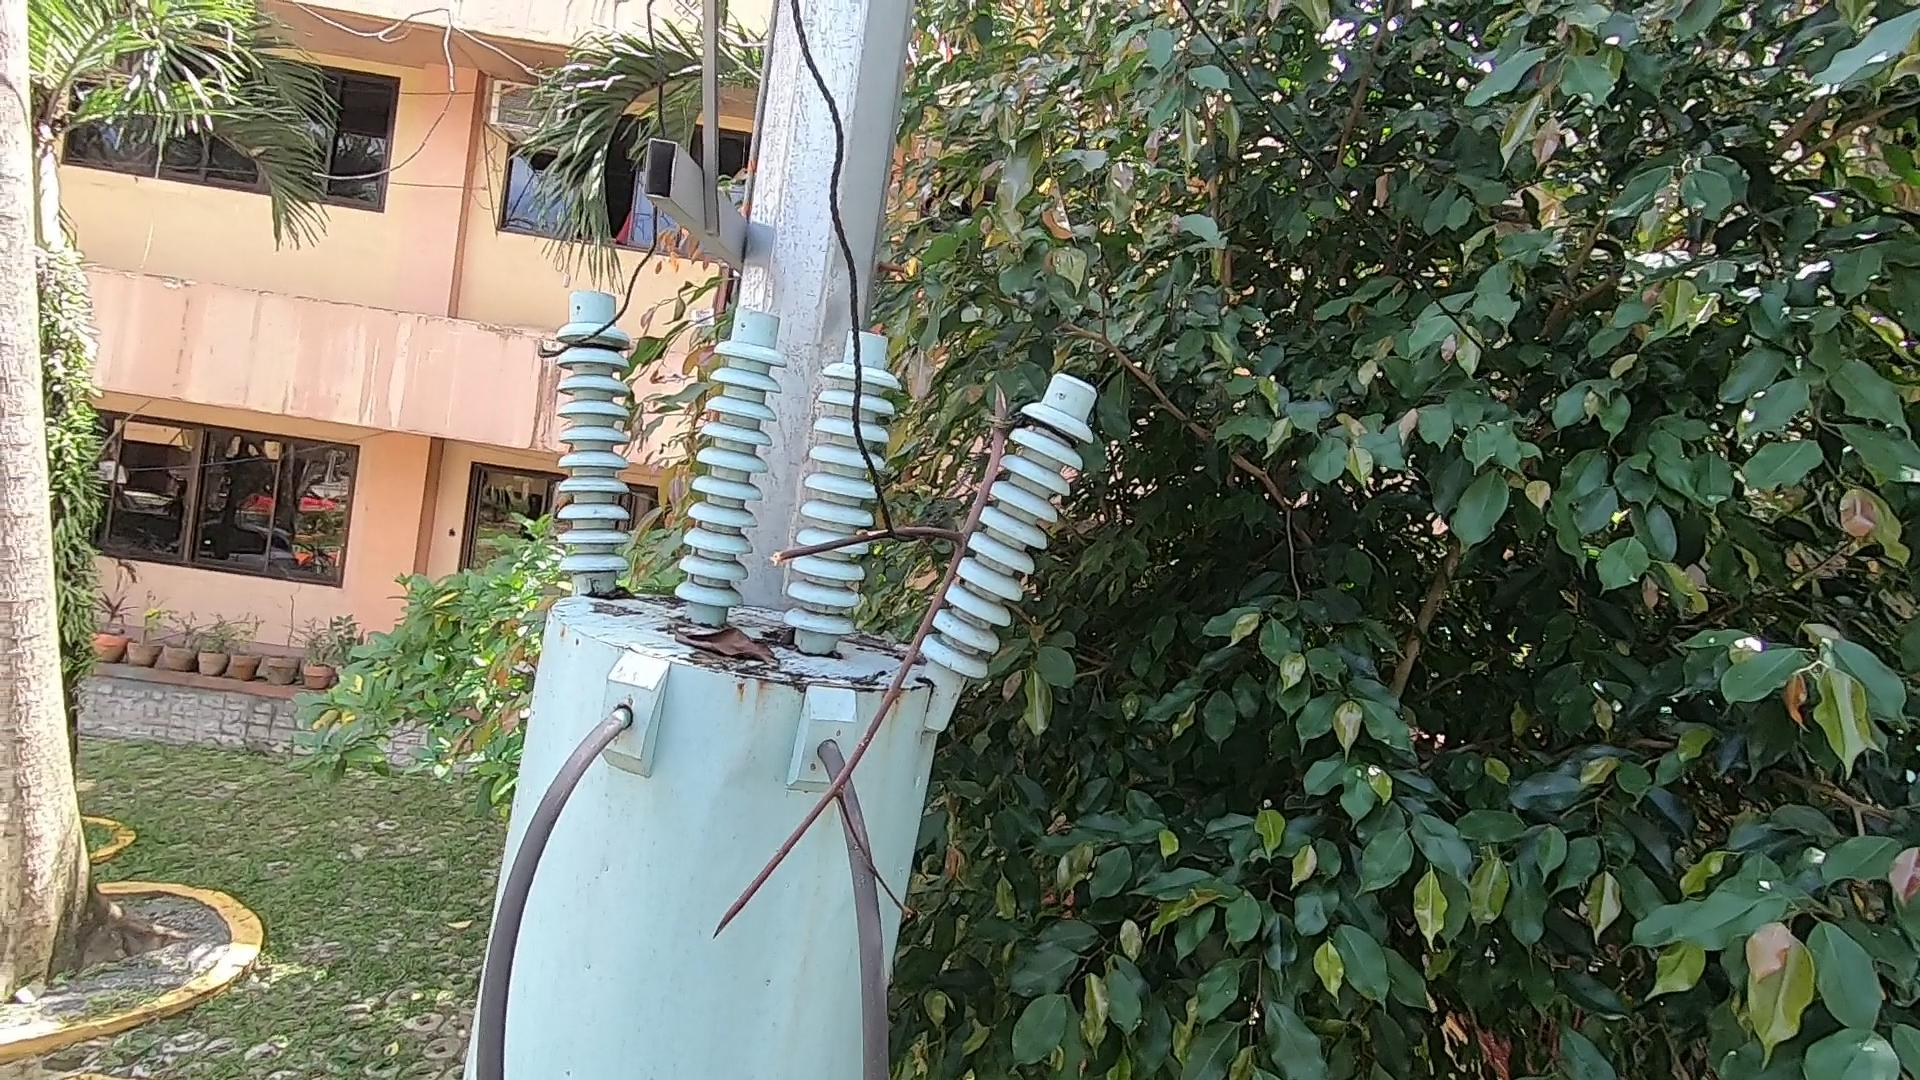leaf: (670, 607, 794, 680)
tree branch: (684, 363, 1079, 953)
